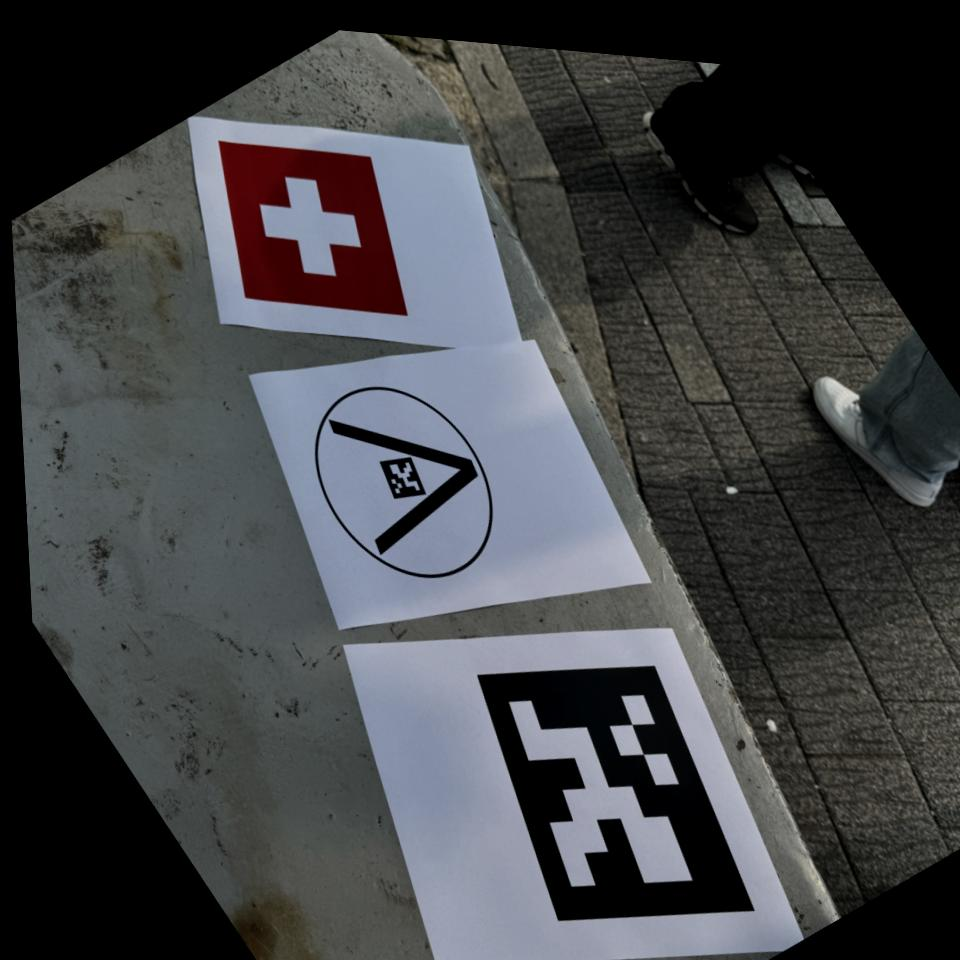ArUro mark: (477, 667, 755, 919)
rescue point: (219, 142, 407, 314)
vertiport: (268, 337, 538, 627)
